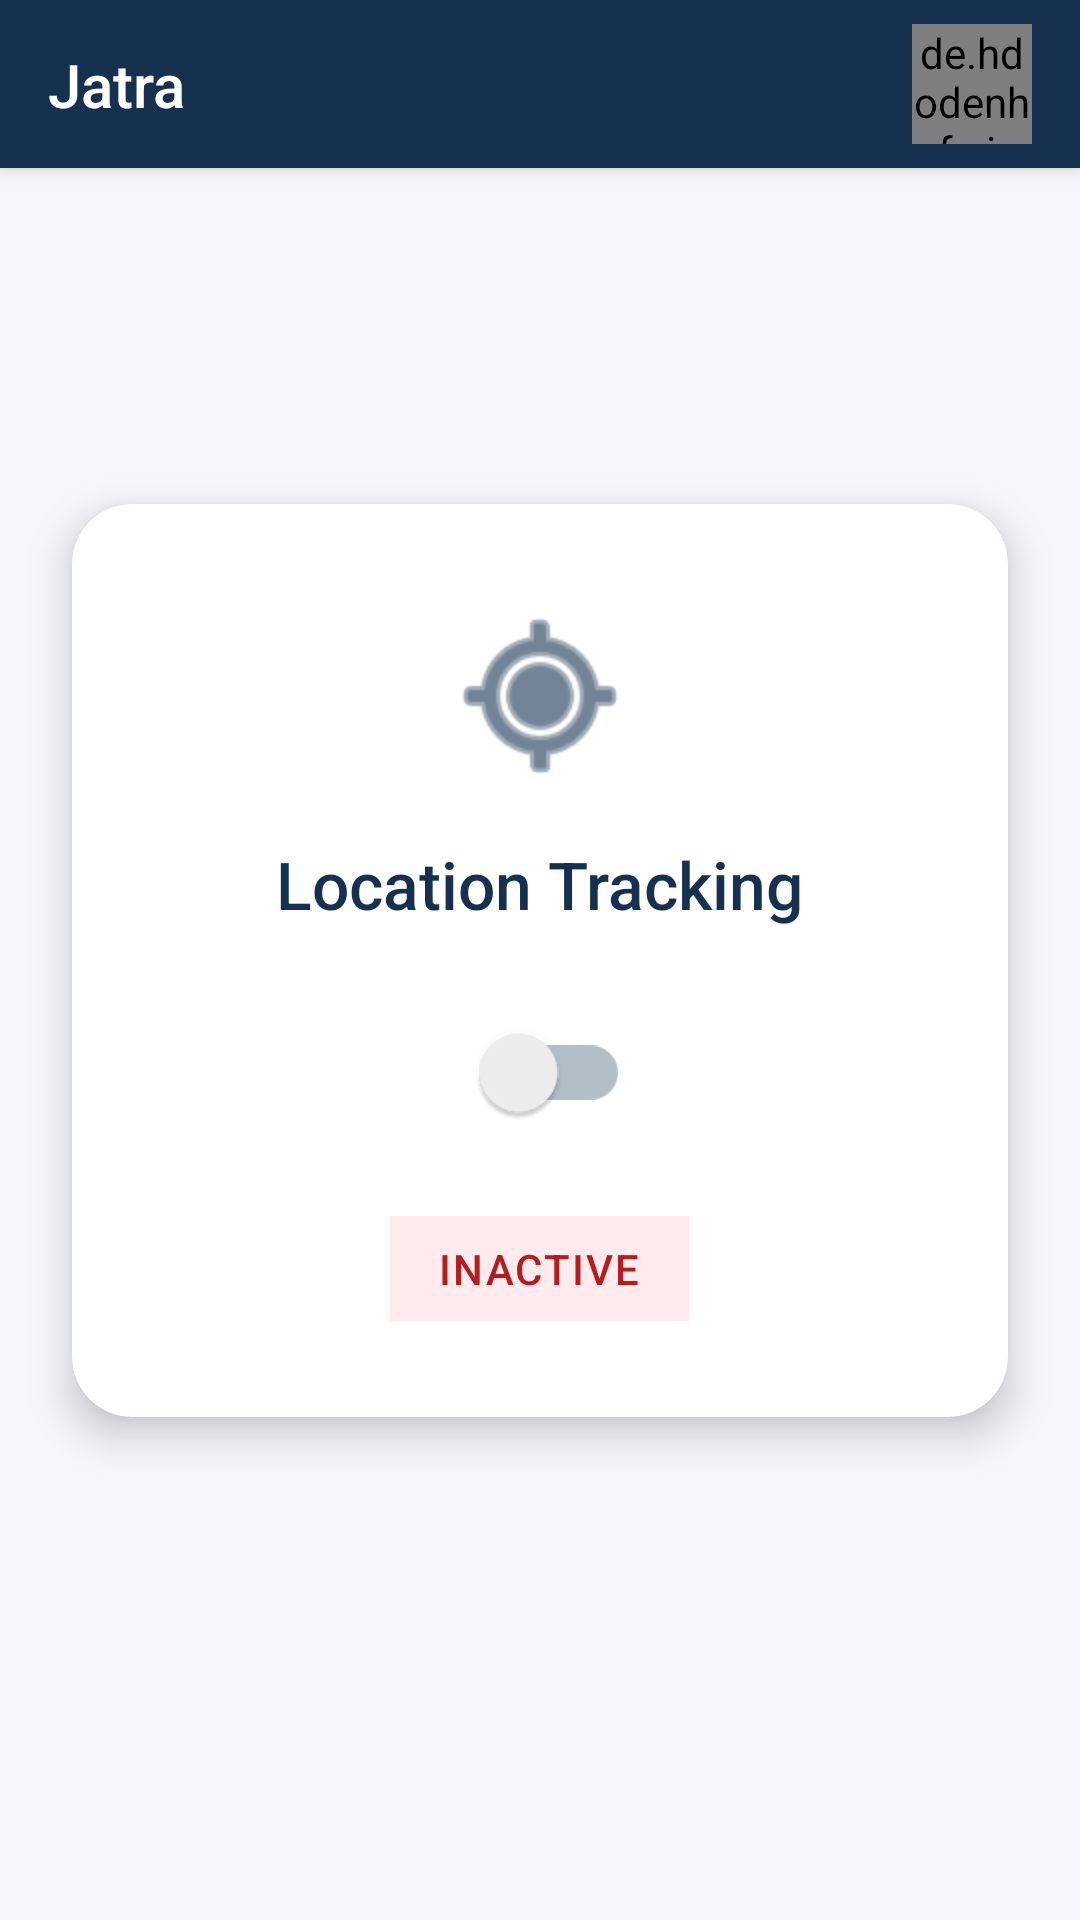

Screen size 1080px x 1920px. Icon name, then its box in pixels as (x1, y1, x2, y2):
mylocation: (463, 619, 617, 773)
